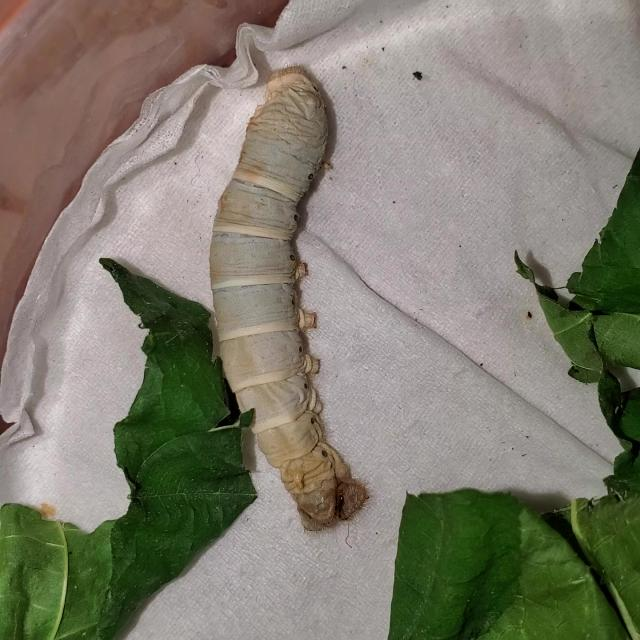Grasserie: (190, 27, 411, 542)
